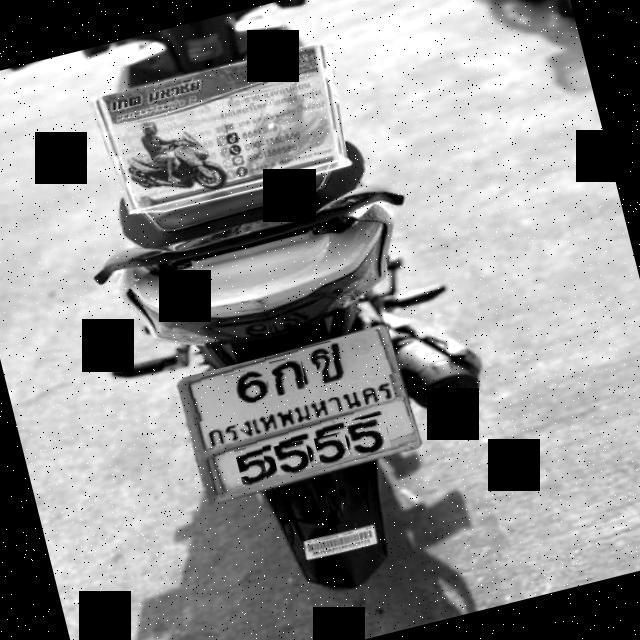letters: (224, 366, 272, 416), (344, 412, 391, 458), (268, 354, 310, 399), (234, 442, 272, 490), (270, 439, 312, 478), (314, 348, 354, 386), (314, 430, 351, 468)
license-plate: (185, 326, 416, 498)
province: (197, 372, 404, 449)
